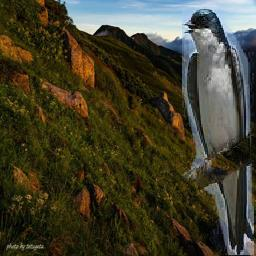Swallow: (182, 7, 254, 255)
